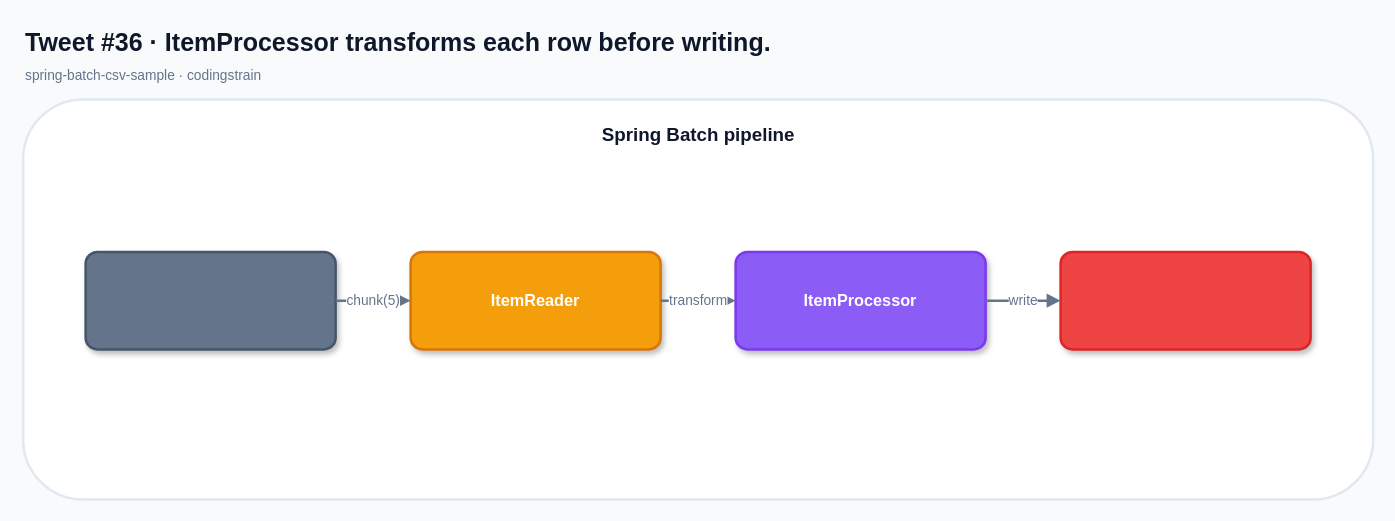
This 1395x521 diagram has some shape labels left out. Each missing label, with the centre of its shape:
CSV file: pixel 211 302
ItemWriter: pixel 1186 302
